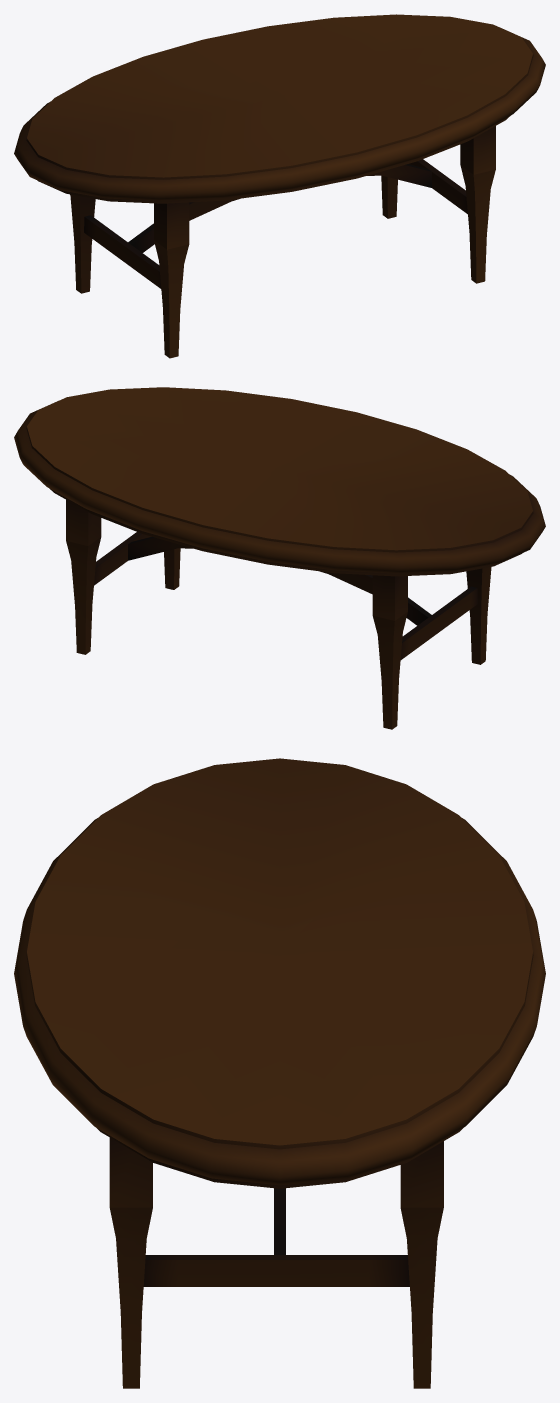
The model's file is CoffeeTableOval01.fbx.
3 renders of one model, top to bottom at view 1: azimuth 30°, elevation 25°; view 2: azimuth 150°, elevation 25°; view 3: azimuth 270°, elevation 25°, orthographic. The views are drawn at different scales.
Visible parts, largest first — view 1: CoffeeTableOval01; view 2: CoffeeTableOval01; view 3: CoffeeTableOval01.
Part boxes in pixels (x1=…): CoffeeTableOval01: x1=14, y1=14, x2=545, y2=358; CoffeeTableOval01: x1=14, y1=387, x2=545, y2=729; CoffeeTableOval01: x1=14, y1=758, x2=545, y2=1388.
Size of the model in its own units: 1.44 by 0.5133 by 0.7973.
